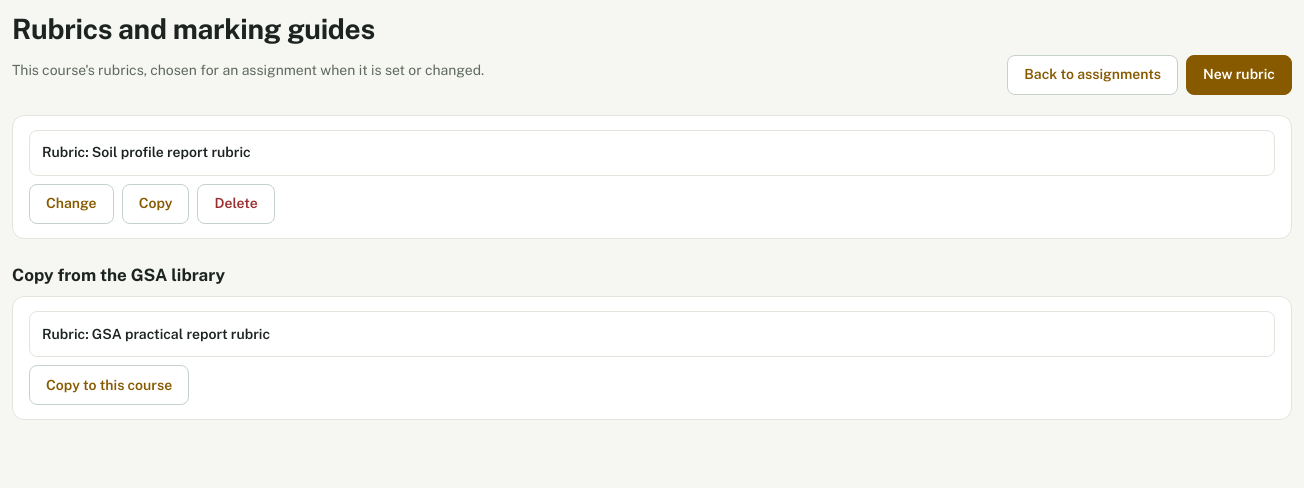
rubrics and marking guides (items 3.09, 3.10) › lists the course's rubrics, and copies one from the GSA library to the course
Expected: the heading "Rubrics and marking guides" is shown, [12,12,375,45]
Expected: the heading "Rubric: Soil profile report rubric" is shown, [42,144,251,160]
Click the button with aria-label "Copy GSA practical report rubric to this course": (109,385) [29,365,189,405]
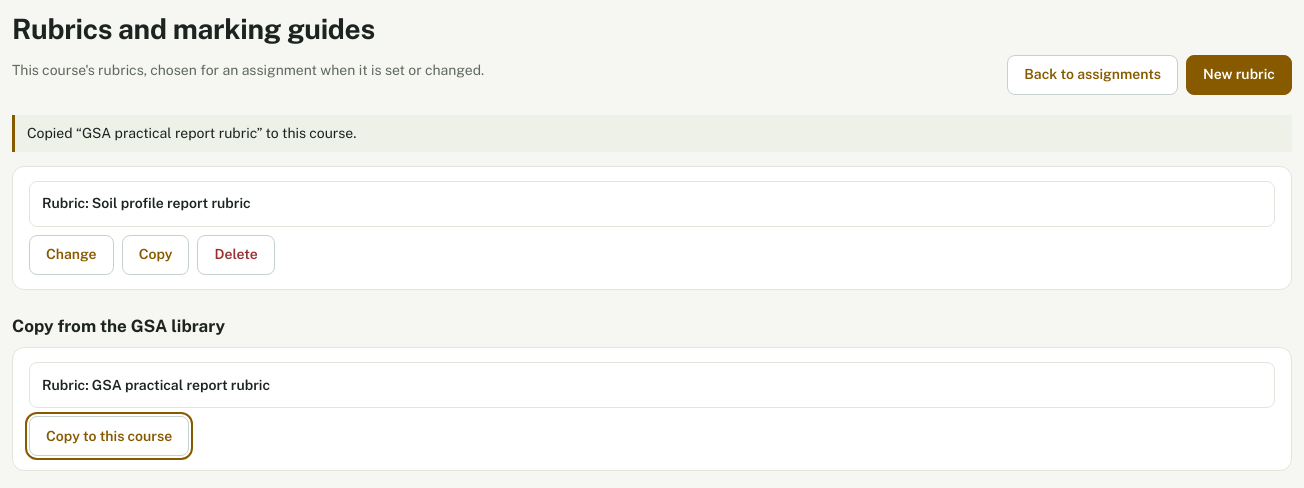
Expected: the text "Copied “GSA practical report rubric” to this course." is shown, [12,115,1292,152]
